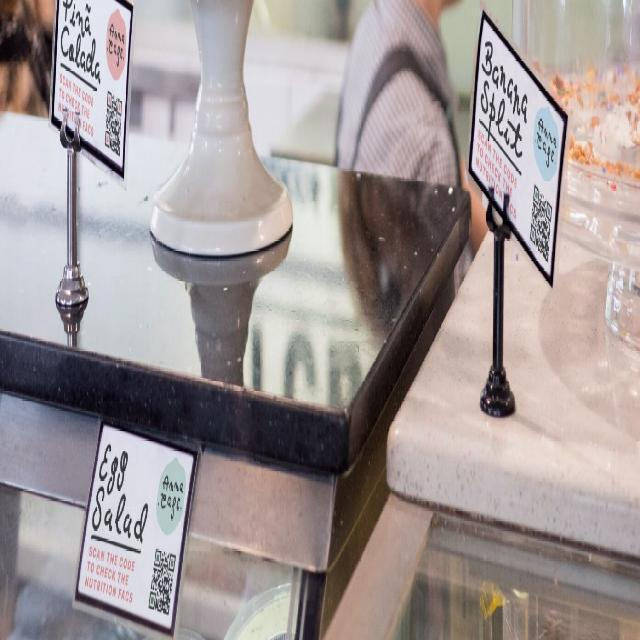qr_code: (148, 549, 177, 615), (529, 184, 553, 263), (105, 91, 123, 157)
